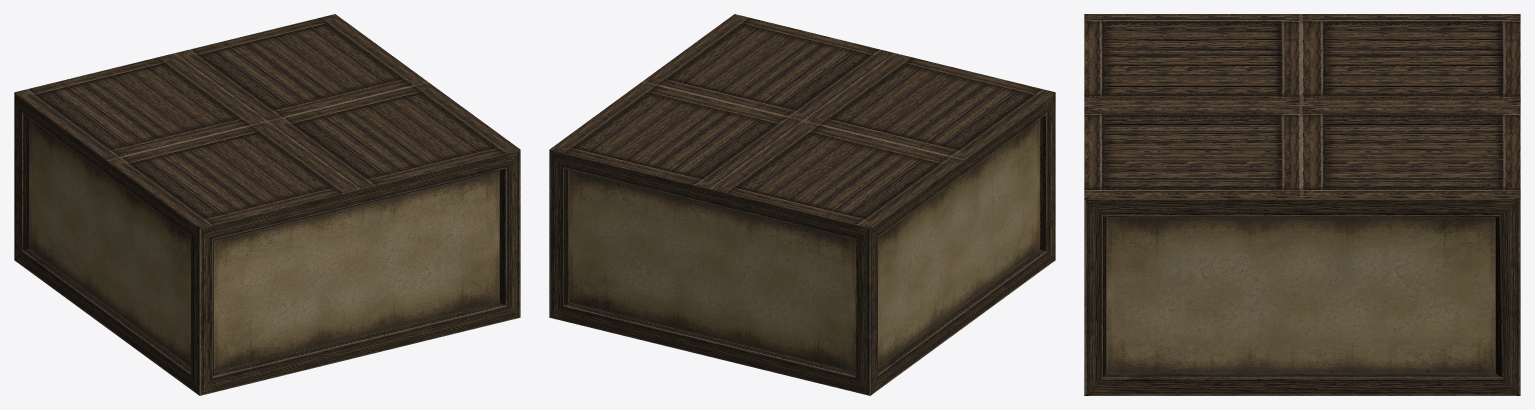
Rendered from House_8X8_05a.fbx.
3 views of the same model, side by side, from view 1: azimuth 30°, elevation 25°; view 2: azimuth 150°, elevation 25°; view 3: azimuth 270°, elevation 25° (orthographic). The views are drawn at different scales.
Visible parts, largest first — view 1: House_8X8_05a; view 2: House_8X8_05a; view 3: House_8X8_05a.
Part boxes in pixels (bbox=[...]): House_8X8_05a: bbox=[14, 14, 520, 395]; House_8X8_05a: bbox=[549, 14, 1055, 395]; House_8X8_05a: bbox=[1084, 14, 1520, 395].
Size of the model in its own units: 8 by 4 by 8.
